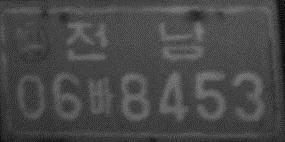0: (15, 72, 47, 120)
3: (232, 71, 265, 123)
4: (157, 70, 188, 121)
5: (194, 70, 227, 121)
6: (50, 69, 82, 121)
8: (118, 70, 151, 122)
바: (86, 75, 114, 117)
영: (12, 18, 52, 66)
전남_D: (63, 18, 206, 63)
